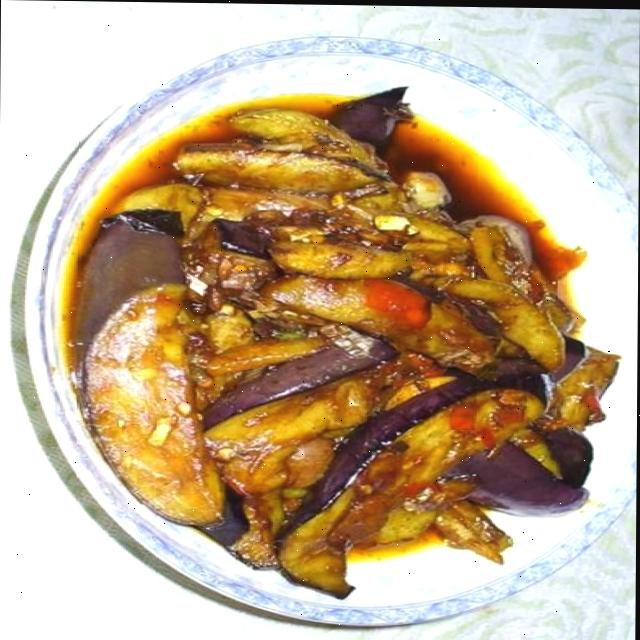鸡蛋料理: (23, 38, 640, 606)
